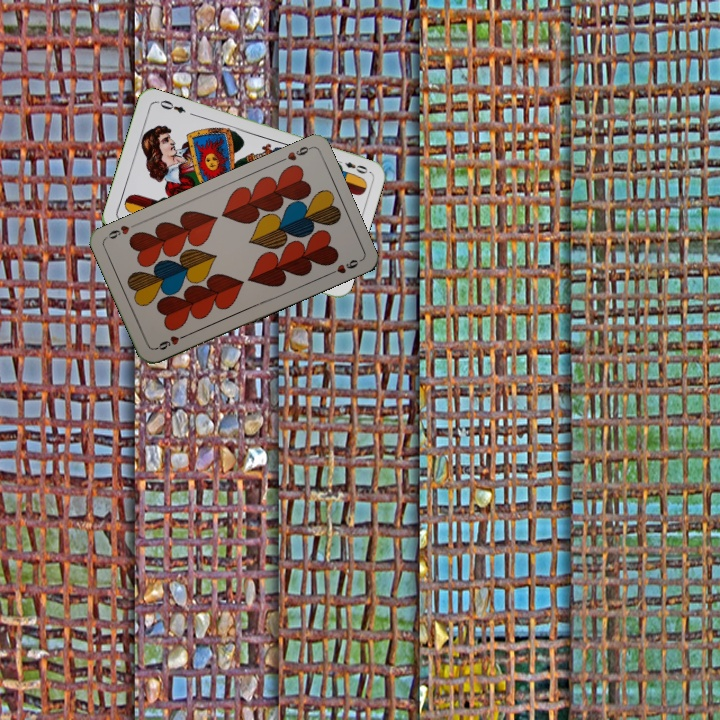EO: (331, 155, 370, 176)
H9: (151, 330, 190, 353), (275, 142, 314, 165)
